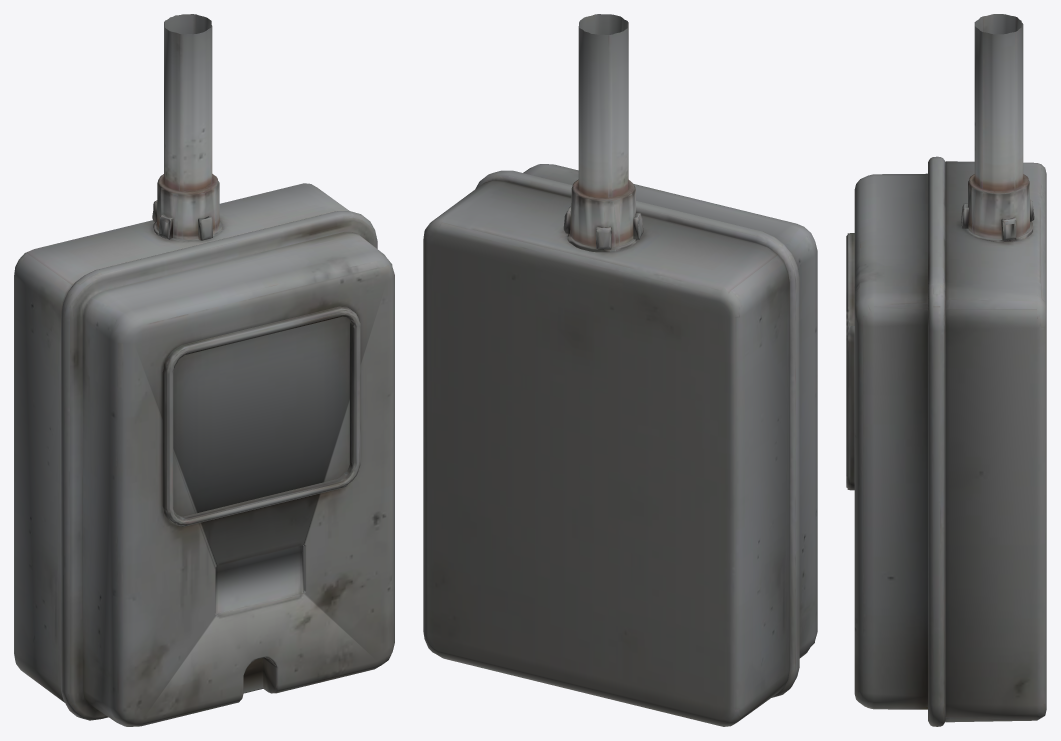
File: javaporcos_mint_padrao_luz.glb
3 views of the same model, side by side, from view 1: azimuth 30°, elevation 25°; view 2: azimuth 150°, elevation 25°; view 3: azimuth 270°, elevation 25° (orthographic). The views are drawn at different scales.
Parts seen in each view (by area): view 1: Padrão de entrada de luz; view 2: Padrão de entrada de luz; view 3: Padrão de entrada de luz.
Part boxes in pixels (x1,y1,x2,y2): Padrão de entrada de luz: [14, 14, 394, 726]; Padrão de entrada de luz: [423, 14, 817, 726]; Padrão de entrada de luz: [846, 14, 1046, 726].
Size of the model in its own units: 0.5108 by 1 by 0.2838.
Materials: 1 (1 with a texture image).
